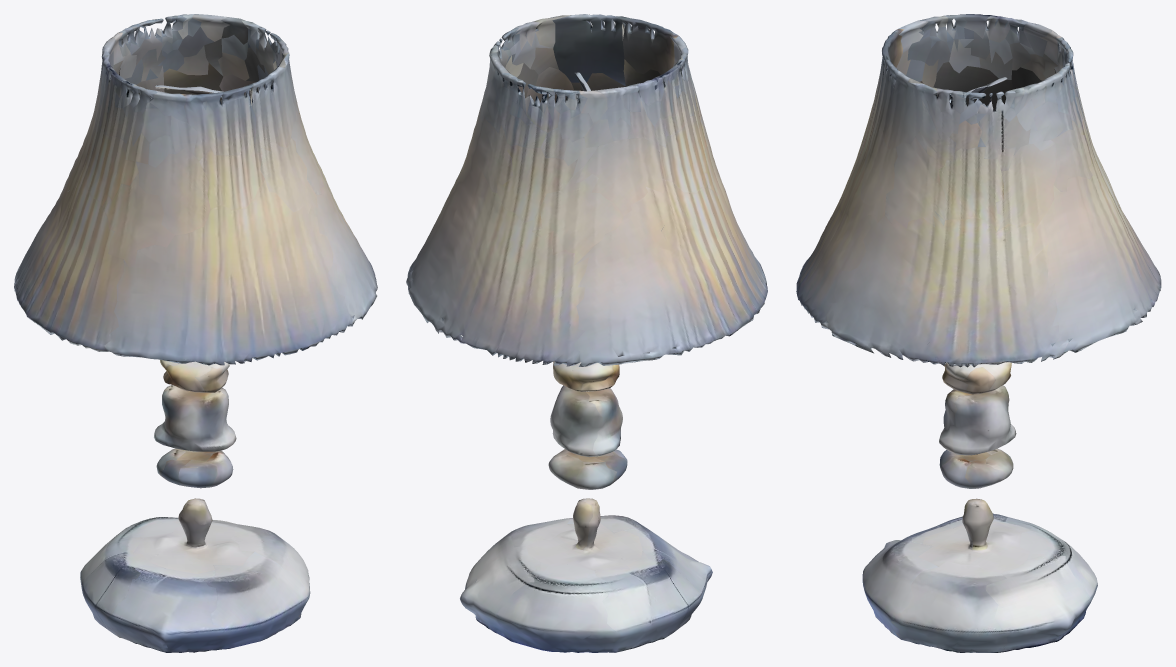
The model's file is classic_lamp_revival.glb.
The picture shows the model from 3 angles, left to right: view 1: azimuth 30°, elevation 25°; view 2: azimuth 150°, elevation 25°; view 3: azimuth 270°, elevation 25°; orthographic projection.
Parts seen in each view (by area): view 1: Object_4; view 2: Object_4; view 3: Object_4.
Part boxes in pixels (x1,y1,x2,y2): Object_4: [14, 14, 377, 652]; Object_4: [406, 14, 767, 652]; Object_4: [796, 14, 1161, 652].
Bounding box in the file's own units: 0.5397 × 0.9039 × 0.5386.
1 material, 1 textured.
